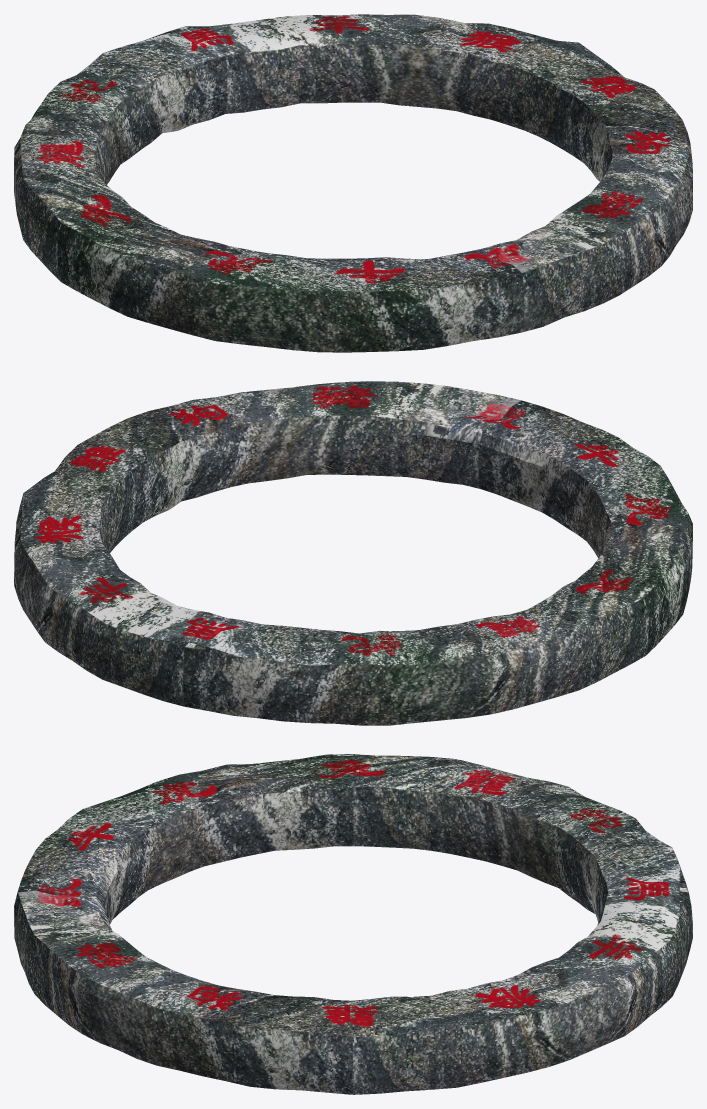
File: rolling_era_low.fbx
3 views of the same model, one above another, from view 1: azimuth 30°, elevation 25°; view 2: azimuth 150°, elevation 25°; view 3: azimuth 270°, elevation 25° (orthographic).
Visible parts, largest first — view 1: polySurface8; view 2: polySurface8; view 3: polySurface8.
Boxes of the visible parts, x1,y1,x2,y2 form: polySurface8: (14,14,692,352); polySurface8: (14,381,692,725); polySurface8: (14,754,692,1094).
Size of the model in its own units: 1.99 by 0.2239 by 1.99.
